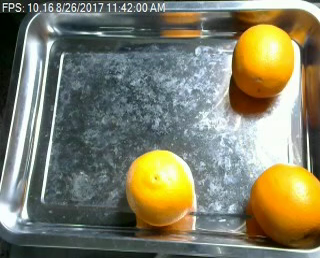Orange: (250, 163, 320, 248), (124, 148, 193, 226), (232, 23, 294, 97)
